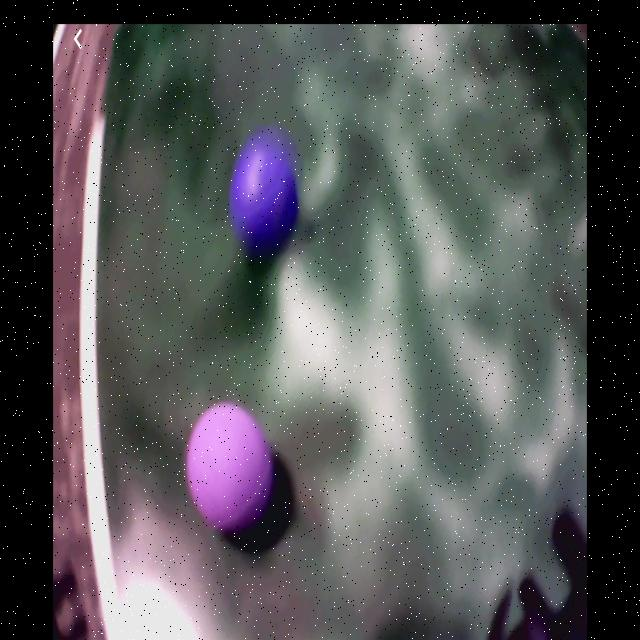ball: (188, 405, 272, 538), (233, 134, 302, 255)
